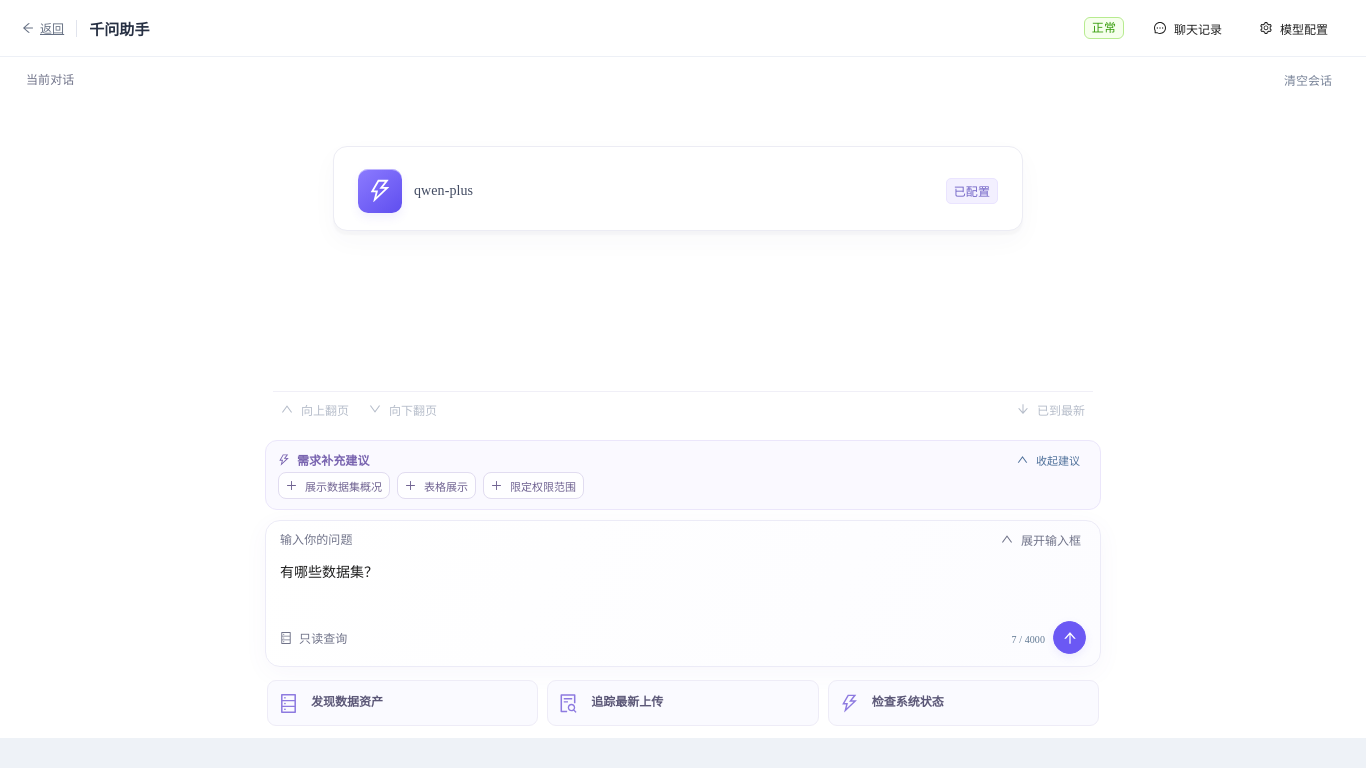
Test: Warehouse AI interface › prefills workspace questions without spending tokens until the user sends
This screenshot has width=1366, height=768.
Expected: the text box named "输入问题" holds "有哪些数据集？", [280,559,1086,609]
Click the button "追踪最新上传" at {"x": 627, "y": 702}, box [547,680,819,726]
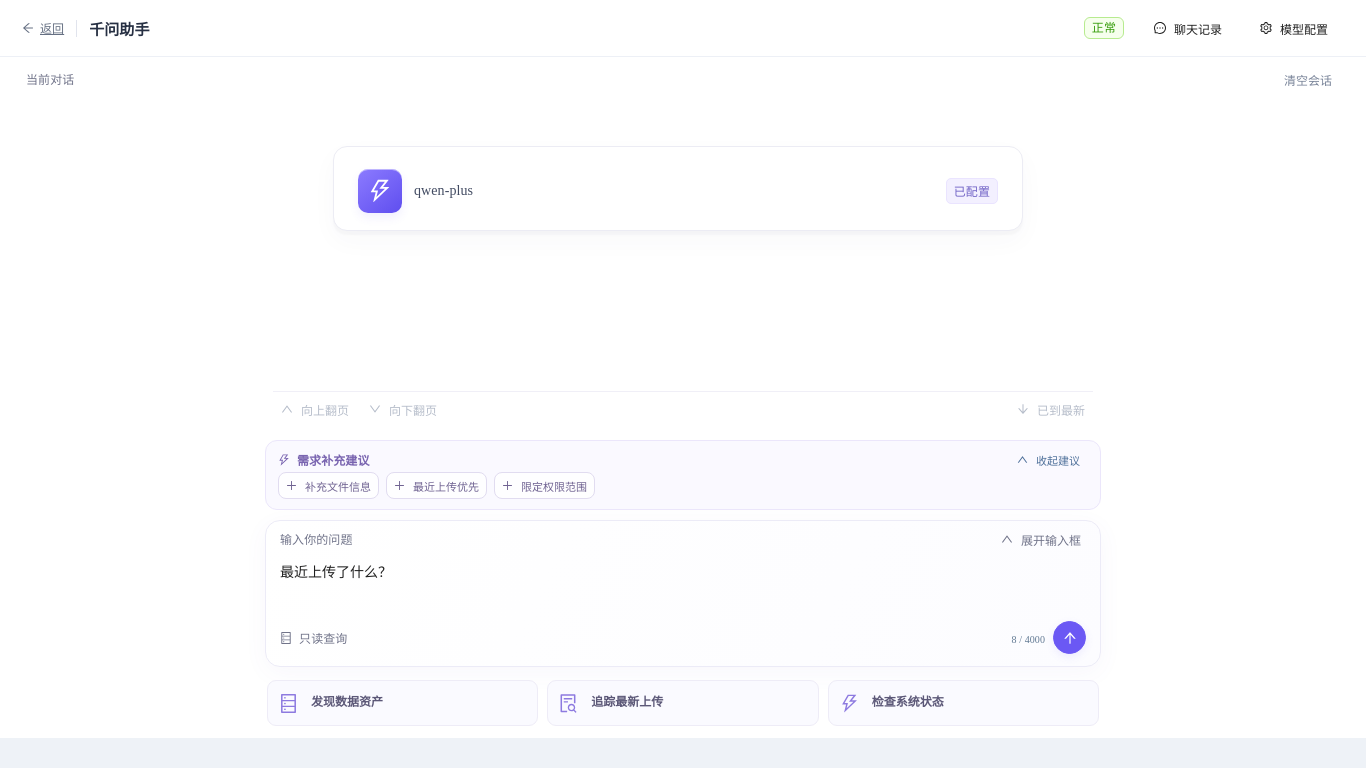
Now the text box named "输入问题" holds "最近上传了什么？", box [280,559,1086,609]
